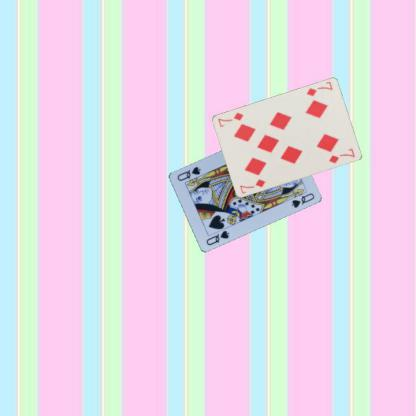7d: (304, 79, 333, 98), (237, 177, 266, 195)
Qs: (204, 228, 231, 246)
